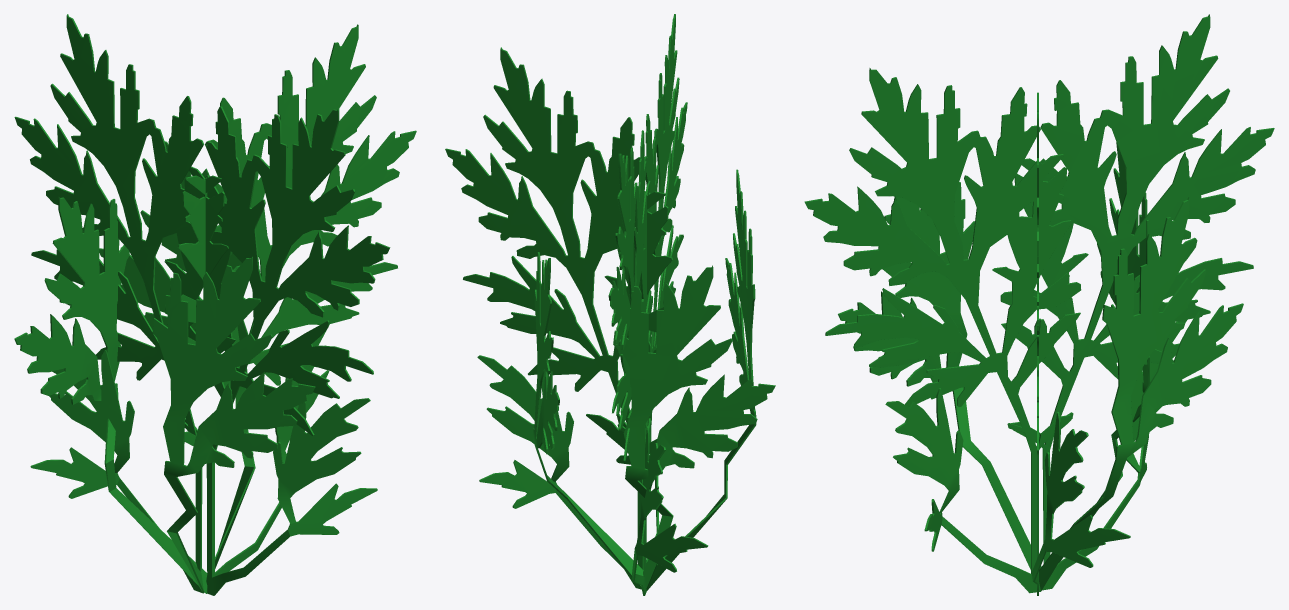
File: Grass2.fbx
The picture shows the model from 3 angles, left to right: view 1: azimuth 30°, elevation 25°; view 2: azimuth 150°, elevation 25°; view 3: azimuth 270°, elevation 25°; orthographic projection. The views are drawn at different scales.
Parts seen in each view (by area): view 1: wormwood.002; view 2: wormwood.002; view 3: wormwood.002.
Boxes of the visible parts, x1,y1,x2,y2 form: wormwood.002: (14,14,416,595); wormwood.002: (445,14,775,595); wormwood.002: (804,14,1274,595).
Bounding box in the file's own units: 2.98 × 4.05 × 3.14.
